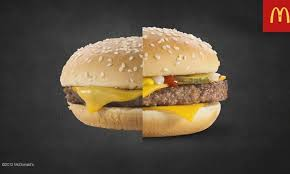hamburger: (56, 25, 231, 139)
